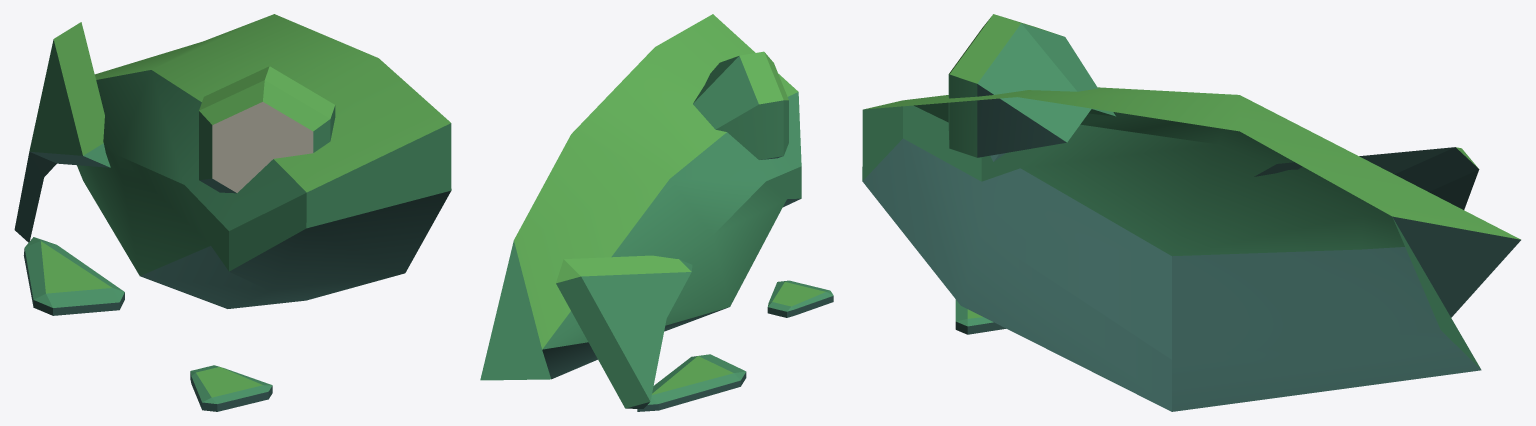
File: Frog.gltf
3 views of the same model, side by side, from view 1: azimuth 30°, elevation 25°; view 2: azimuth 150°, elevation 25°; view 3: azimuth 270°, elevation 25° (orthographic). The views are drawn at different scales.
Parts seen in each view (by area): view 1: Cube; view 2: Cube; view 3: Cube.
Boxes of the visible parts, left/top/right/bottom form: Cube: left=14, top=14, right=451, bottom=411; Cube: left=480, top=14, right=833, bottom=411; Cube: left=862, top=14, right=1520, bottom=411.
Size of the model in its own units: 1.14 by 1.51 by 2.7.
1 material, 1 textured.
